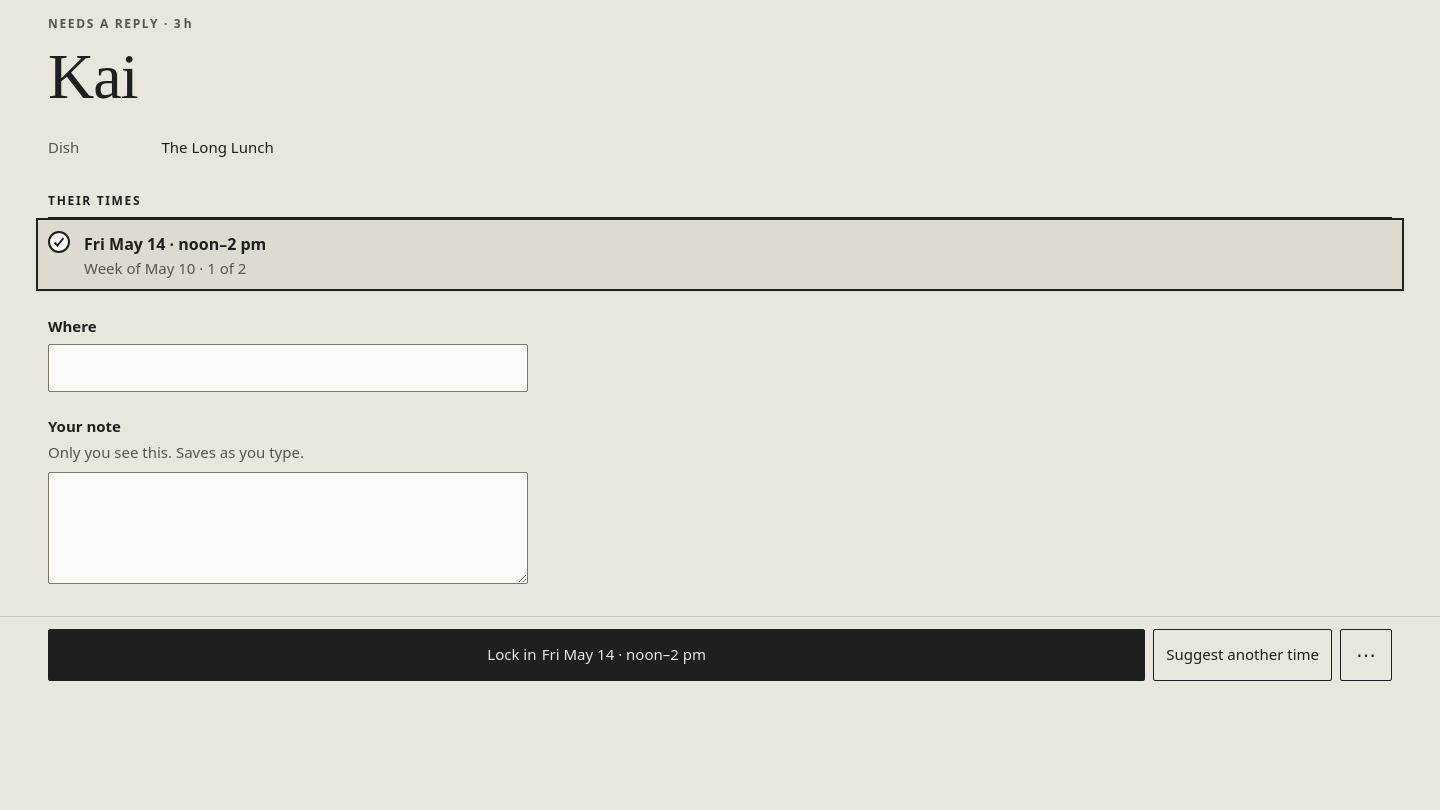
QA4 H1 (b): a time lock is checked before its window too › refused: the line shows at once, no toast, no POST
The image size is (1440, 810).
Click the button "Lock in Fri May 14 · noon–2 pm" at (597, 655), box [48,629,1145,681]
Wait 15000 ms
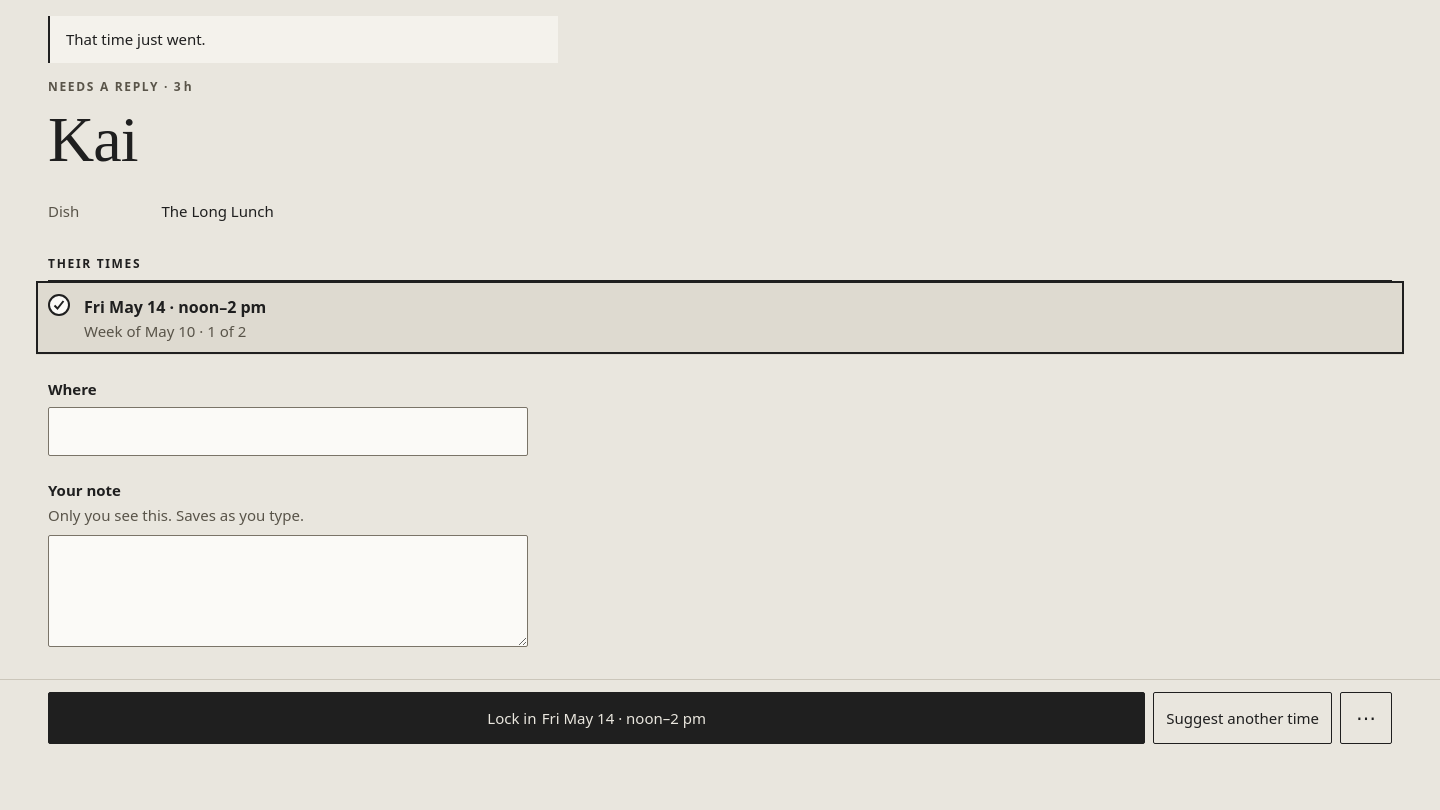
Now the message reads "That time just went.", box [66,29,206,49]
